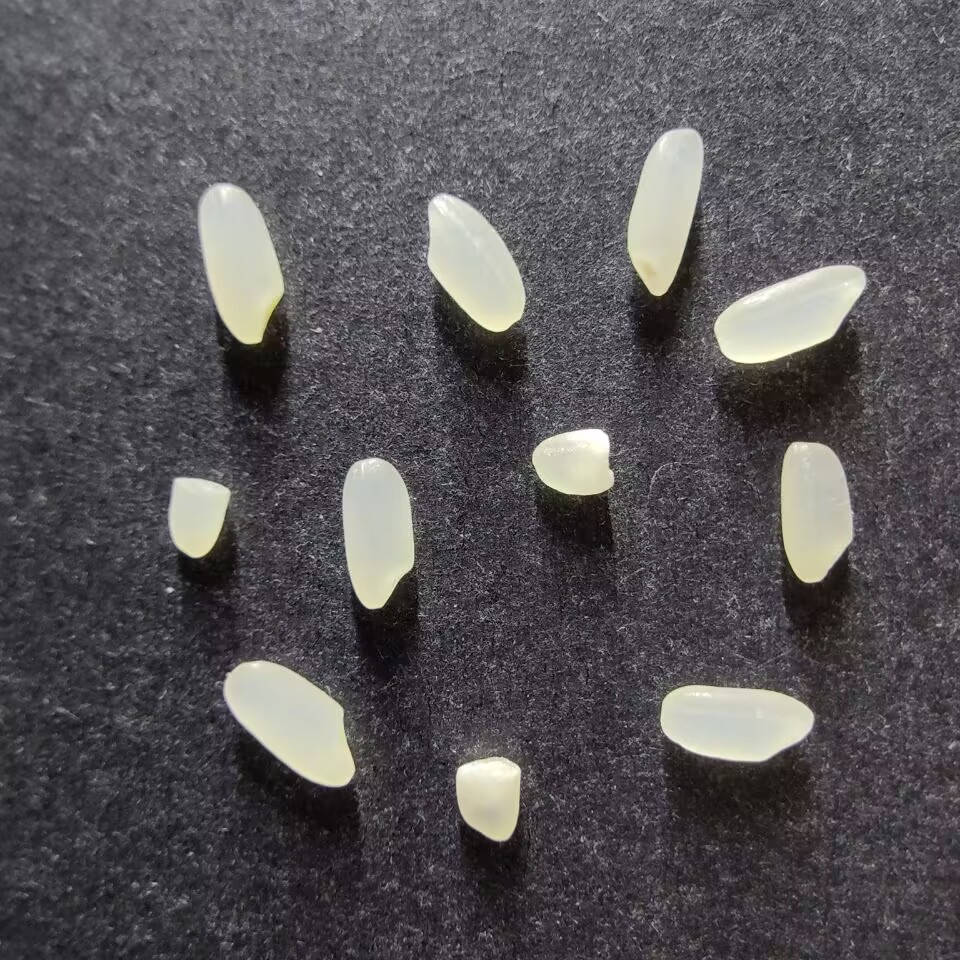broken: (531, 428, 615, 496), (454, 756, 521, 841), (167, 475, 230, 559)
rice: (222, 660, 356, 788), (713, 263, 867, 364), (198, 184, 284, 345), (426, 194, 525, 333), (625, 126, 704, 296), (659, 684, 815, 762), (340, 457, 416, 611), (779, 441, 853, 584)
